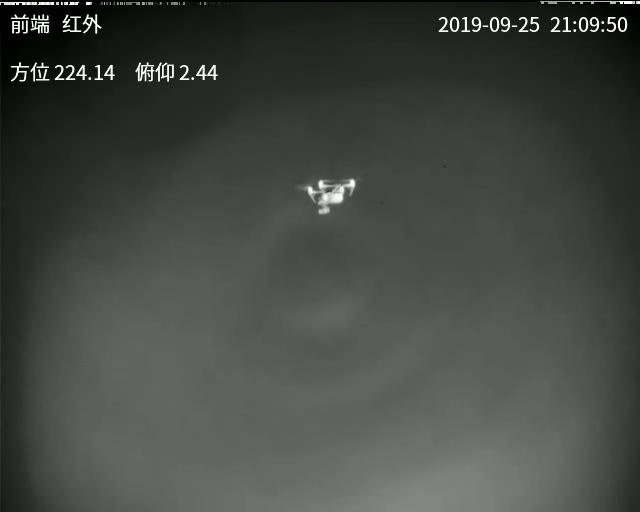uav: (299, 174, 357, 216)
